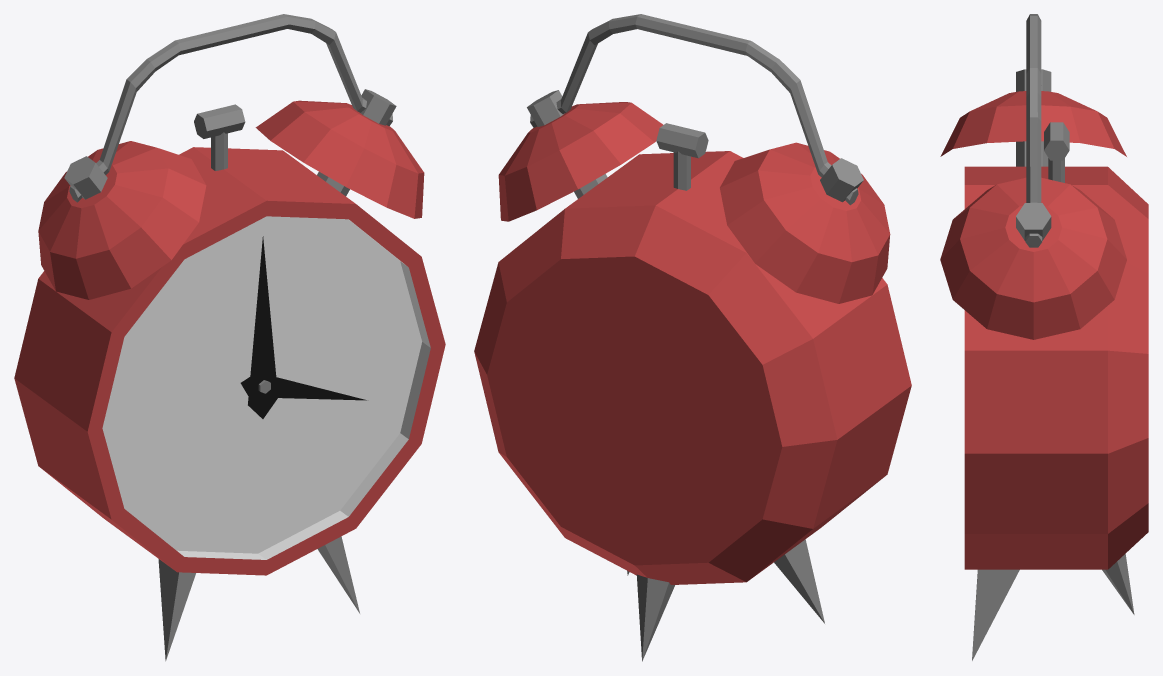
Rendered from alarmclock.glb.
3 renders of one model, left to right at view 1: azimuth 30°, elevation 25°; view 2: azimuth 150°, elevation 25°; view 3: azimuth 270°, elevation 25°, orthographic. The views are drawn at different scales.
Visible parts, largest first — view 1: Alarm Clock; view 2: Alarm Clock; view 3: Alarm Clock.
Part boxes in pixels (bbox=[...]): Alarm Clock: bbox=[14, 14, 445, 661]; Alarm Clock: bbox=[474, 14, 911, 661]; Alarm Clock: bbox=[940, 14, 1148, 660].
Size of the model in its own units: 0.1243 by 0.192 by 0.0633.
1 material, 1 textured.
